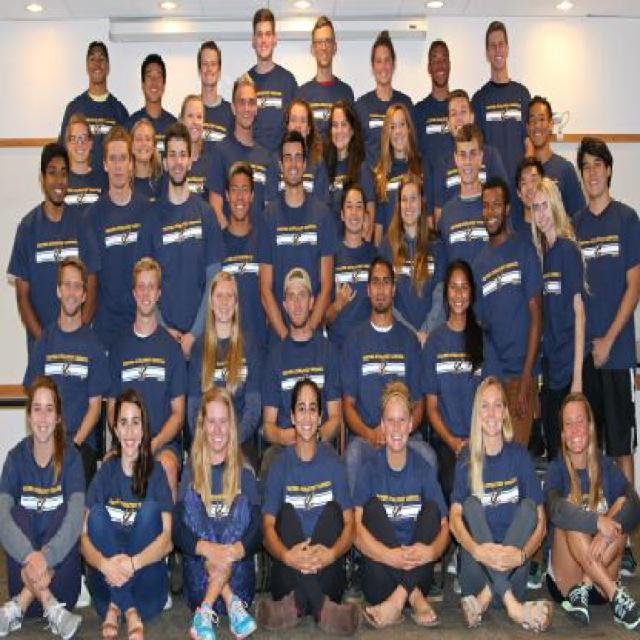sem_oculos: (27, 394, 64, 422), (102, 146, 138, 174), (249, 19, 283, 48), (54, 273, 92, 295), (282, 398, 325, 417), (109, 413, 148, 432), (179, 103, 216, 123), (125, 275, 162, 295), (379, 408, 412, 430), (196, 410, 235, 428), (308, 32, 338, 53), (208, 285, 238, 306), (560, 413, 592, 432), (37, 165, 74, 181), (477, 399, 508, 417), (444, 280, 474, 298), (194, 51, 222, 70), (283, 288, 315, 304), (579, 157, 610, 173), (82, 50, 115, 65), (453, 149, 486, 164), (227, 178, 254, 196), (383, 118, 413, 134), (141, 65, 169, 82), (65, 131, 96, 146), (427, 52, 455, 68), (341, 198, 369, 214), (528, 198, 556, 214), (395, 192, 424, 207), (519, 114, 555, 126), (276, 150, 305, 164), (487, 38, 514, 53), (133, 129, 155, 147), (234, 96, 264, 109), (368, 276, 394, 291), (373, 50, 392, 70), (163, 148, 190, 162), (447, 107, 474, 121), (288, 112, 310, 126), (331, 117, 353, 131), (520, 174, 542, 187)
